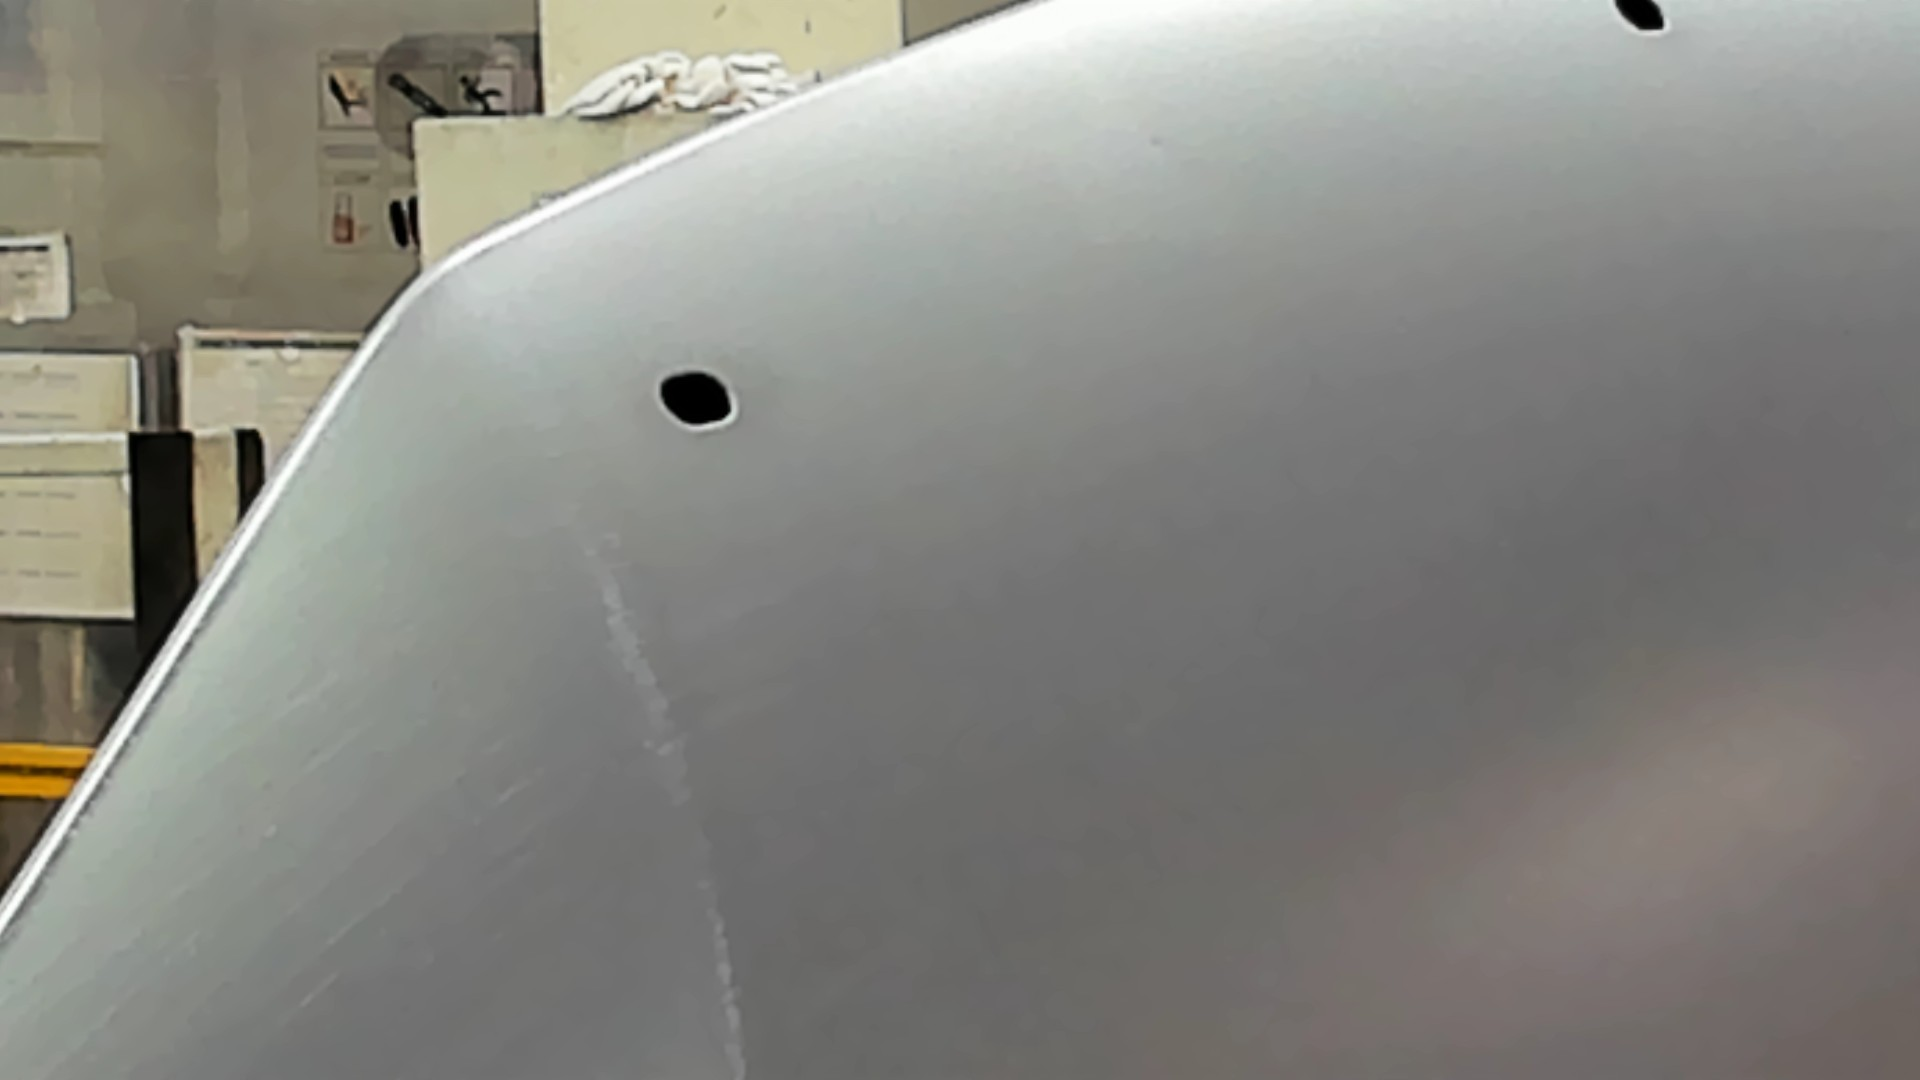amorfo: (655, 365, 745, 436), (1602, 1, 1677, 40)
capo: (872, 133, 1920, 1080)
